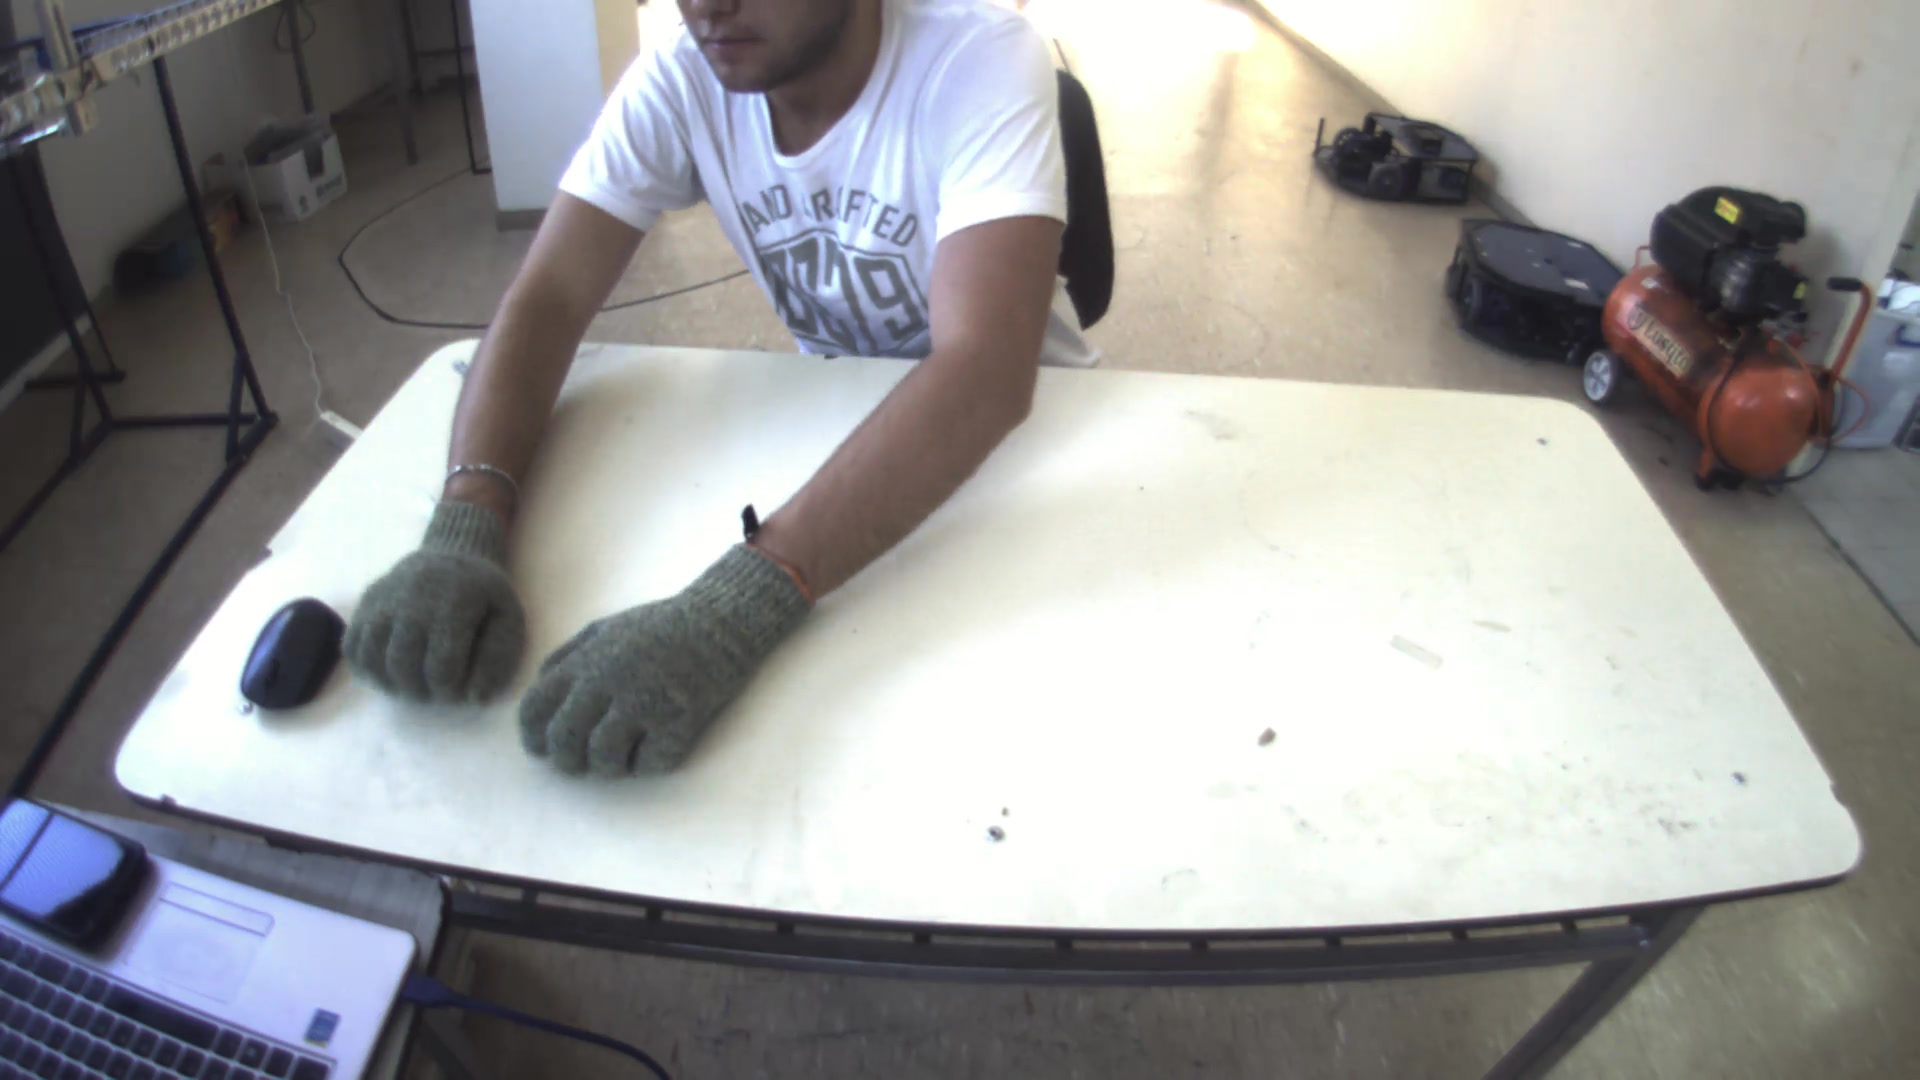hand: (512, 546, 808, 787), (334, 477, 526, 723)
